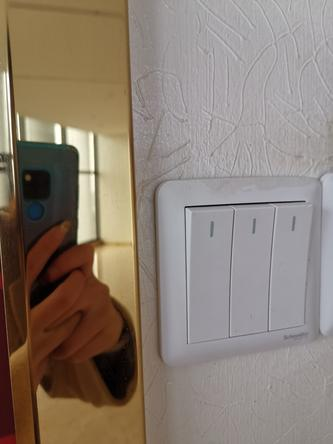switch: (179, 200, 234, 345), (229, 198, 276, 339), (269, 197, 314, 336)
